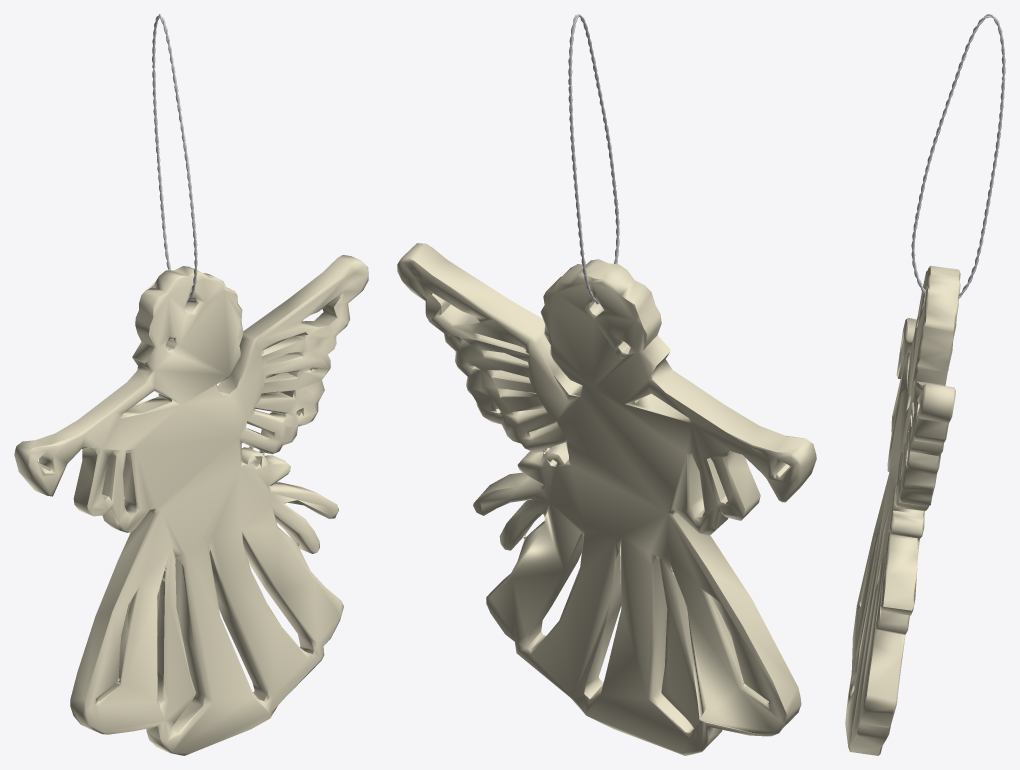
Rendered from Winged_Angel.glb.
3 renders of one model, left to right at view 1: azimuth 30°, elevation 25°; view 2: azimuth 150°, elevation 25°; view 3: azimuth 270°, elevation 25°, orthographic. The views are drawn at different scales.
Visible parts, largest first — view 1: Mesh1.0, GN Instance; view 2: Mesh1.0, GN Instance; view 3: Mesh1.0, GN Instance.
Boxes of the visible parts, x1,y1,x2,y2 form: Mesh1.0: [14, 255, 368, 755]; GN Instance: [152, 14, 197, 302]; Mesh1.0: [397, 243, 816, 755]; GN Instance: [568, 14, 619, 304]; Mesh1.0: [845, 265, 960, 755]; GN Instance: [911, 14, 1005, 298].
Bounding box in the file's own units: 0.0858 × 0.1604 × 0.0317.
